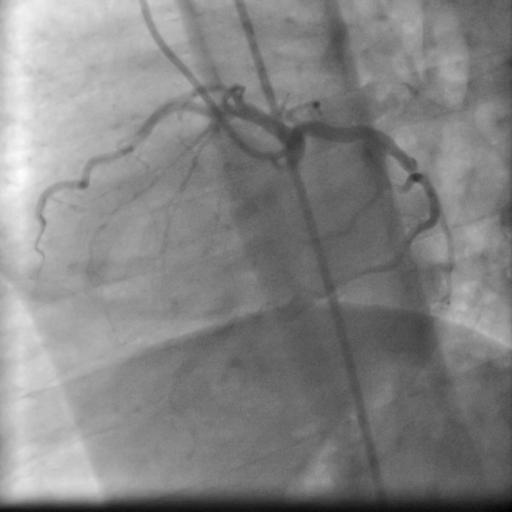Stenosis: (406, 165, 420, 175)
